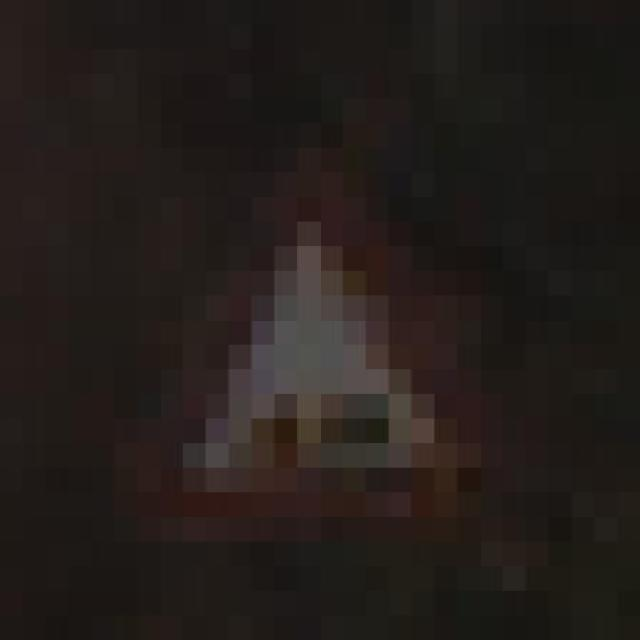Uneven Road: (114, 148, 503, 542)
